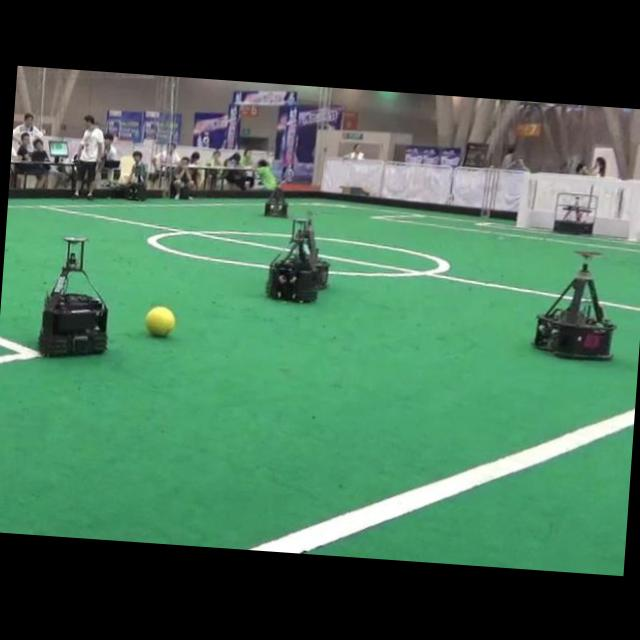ball: (145, 304, 175, 335)
goal: (516, 170, 530, 226), (628, 181, 640, 240)
robot: (38, 235, 107, 354), (534, 261, 614, 357), (266, 218, 328, 301), (553, 192, 597, 232), (264, 188, 288, 215)
